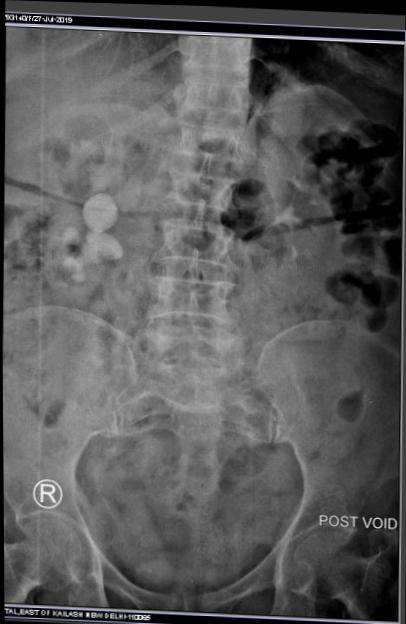vertebrae: (174, 119, 248, 165)
